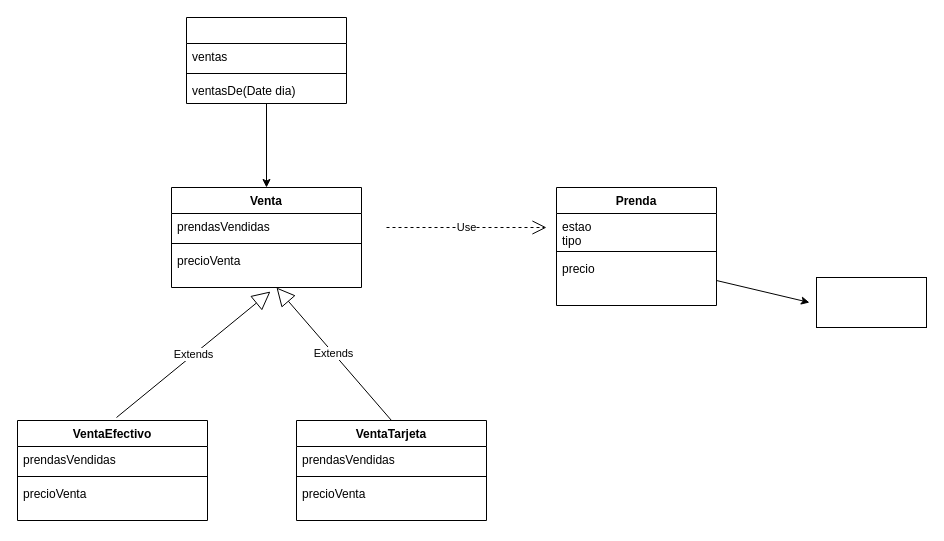
Image size: 944x541. Some labels were removed from this diagram. The shapes that lost their labels are listed below. From the top down, each one's box as (x1, y1, x2, y2) in pixels, then its label:
(186, 16, 346, 104): Facturacion
(816, 276, 926, 328): estado
